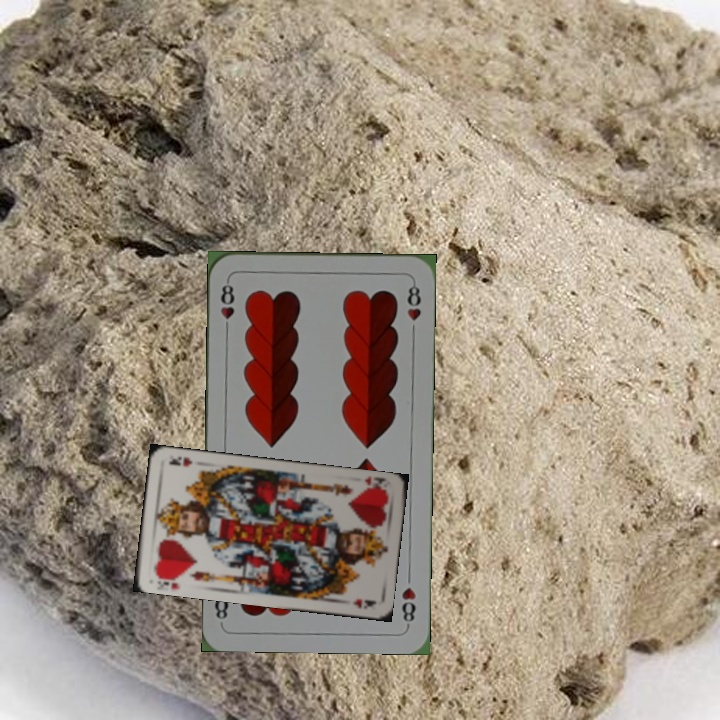H8: (217, 276, 237, 335), (397, 583, 418, 628)
HK: (151, 569, 186, 590), (360, 473, 390, 495)
